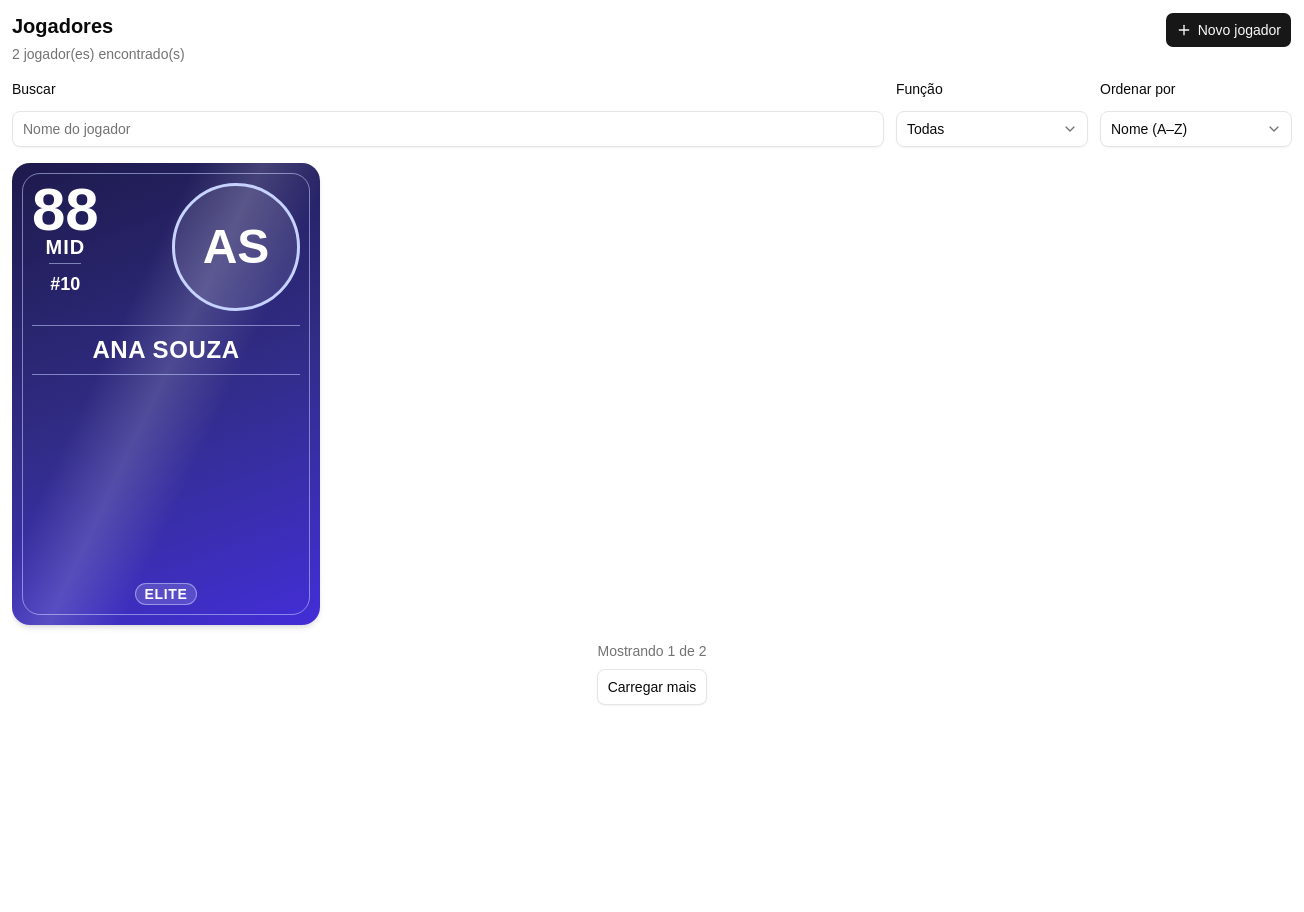
Scenario: PlayersPage › carrega a próxima página
The image size is (1304, 912).
Click the button "Carregar mais" at (652, 687), box [597, 669, 707, 705]
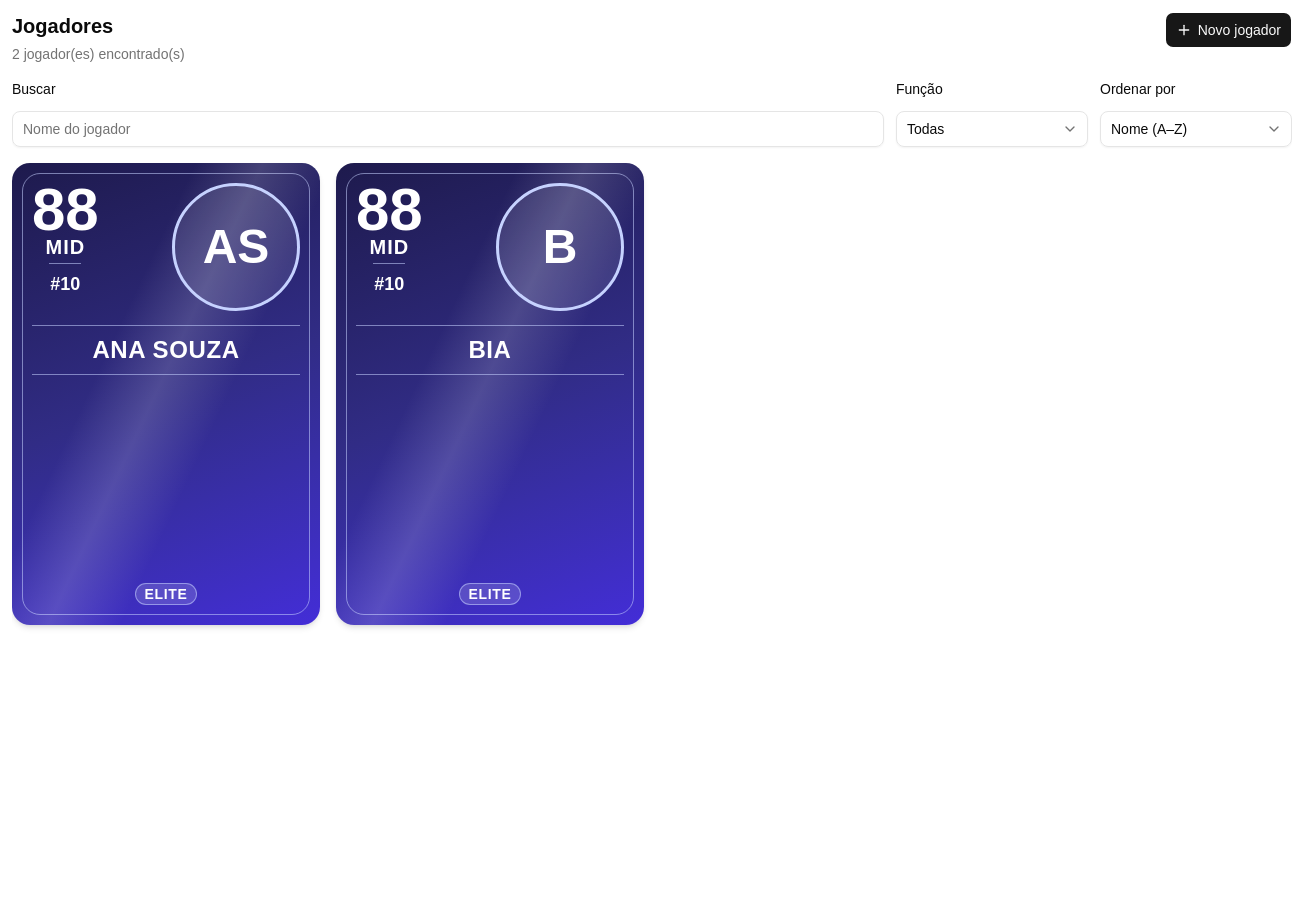
Expected: the text "Ana Souza" is shown, [32, 325, 300, 375]
Now the text "Bia" is shown, box [356, 325, 624, 375]
